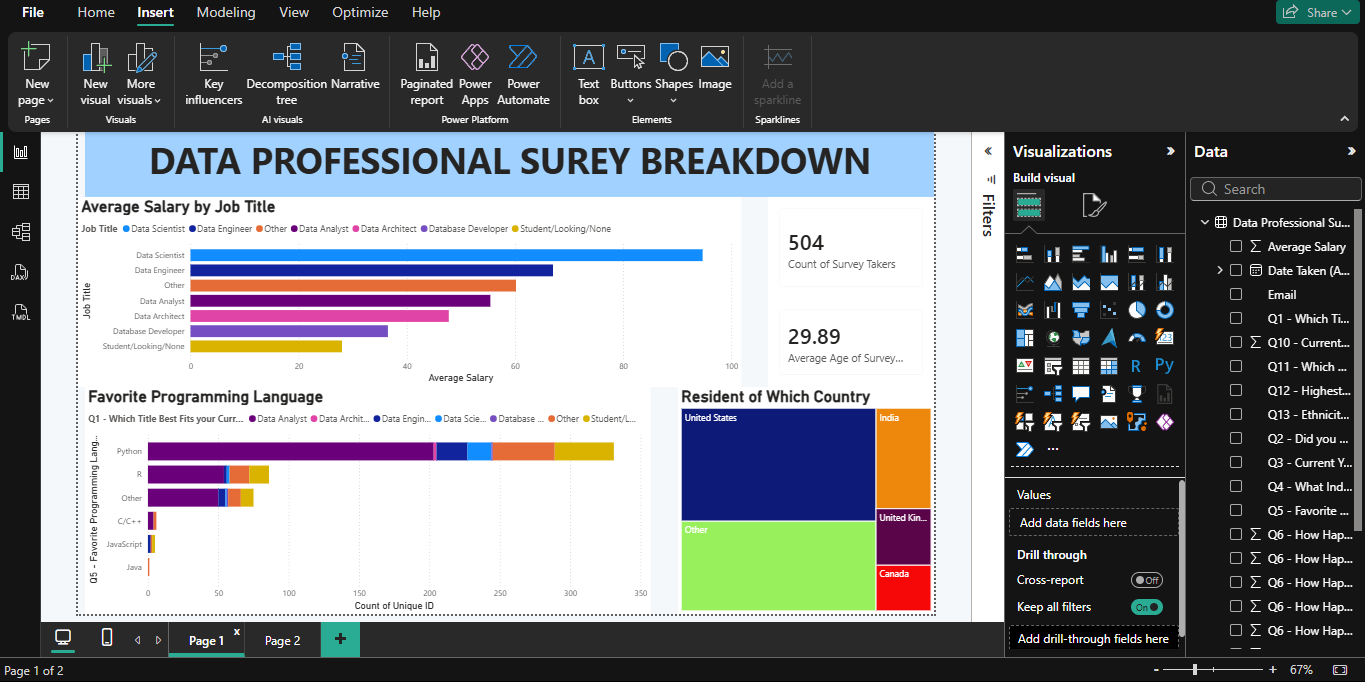

What the dashboard file says about the page in this screenshot:
{"tool":"powerbi","page":{"name":"Page 1","canvas":[1280,720],"ordinal":0},"visuals":[{"type":"textbox","box":[10.1,0,1269.9,97.4],"z":0},{"type":"cardVisual","fields":{"Data":["Count(Data Professional Survey.Unique ID)"]},"box":[1031.4,97.4,248.6,151.2],"z":1000},{"type":"cardVisual","fields":{"Data":["Avg(Data Professional Survey.Q10 - Current Age)"]},"box":[1031.4,248.6,248.6,132.7],"z":2000},{"type":"barChart","title":"Average Salary by Job Title","fields":{"Y":["Avg(Data Professional Survey.Average Salary)"],"Category":["Data Professional Survey.Q1 - Which Title Best Fits your Current Role?.1"],"Series":["Data Professional Survey.Q1 - Which Title Best Fits your Current Role?.1"]},"box":[0,97.4,991.1,283.9],"z":3000},{"type":"barChart","title":" Favorite Programming Language","fields":{"Category":["Data Professional Survey.Q5 - Favorite Programming Language.1"],"Y":["CountNonNull(Data Professional Survey.Unique ID)"],"Series":["Data Professional Survey.Q1 - Which Title Best Fits your Current Role?.1"]},"box":[10.1,381.3,844.9,339.3],"z":4000},{"type":"treemap","title":"Resident of Which Country","fields":{"Group":["Data Professional Survey.Q11 - Which Country do you live in?.1"],"Values":["CountNonNull(Data Professional Survey.Q11 - Which Country do you live in?.1)"]},"box":[897,381.3,383,339.3],"z":5000}]}

Visuals, with their boxes on the page's 1280x720 design canvas (x1, y1, x2, y2). These are canvas units, not pixel positions in the 1365x682 screenshot, which may show the page scaled, cropped or inside an application window:
textbox: Rect(10, 0, 1280, 97)
cardVisual - Count(Data Professional Survey.Unique ID): Rect(1031, 97, 1280, 249)
cardVisual - Avg(Data Professional Survey.Q10 - Current Age): Rect(1031, 249, 1280, 381)
"Average Salary by Job Title" barChart: Rect(0, 97, 991, 381)
" Favorite Programming Language" barChart: Rect(10, 381, 855, 721)
"Resident of Which Country" treemap: Rect(897, 381, 1280, 721)
